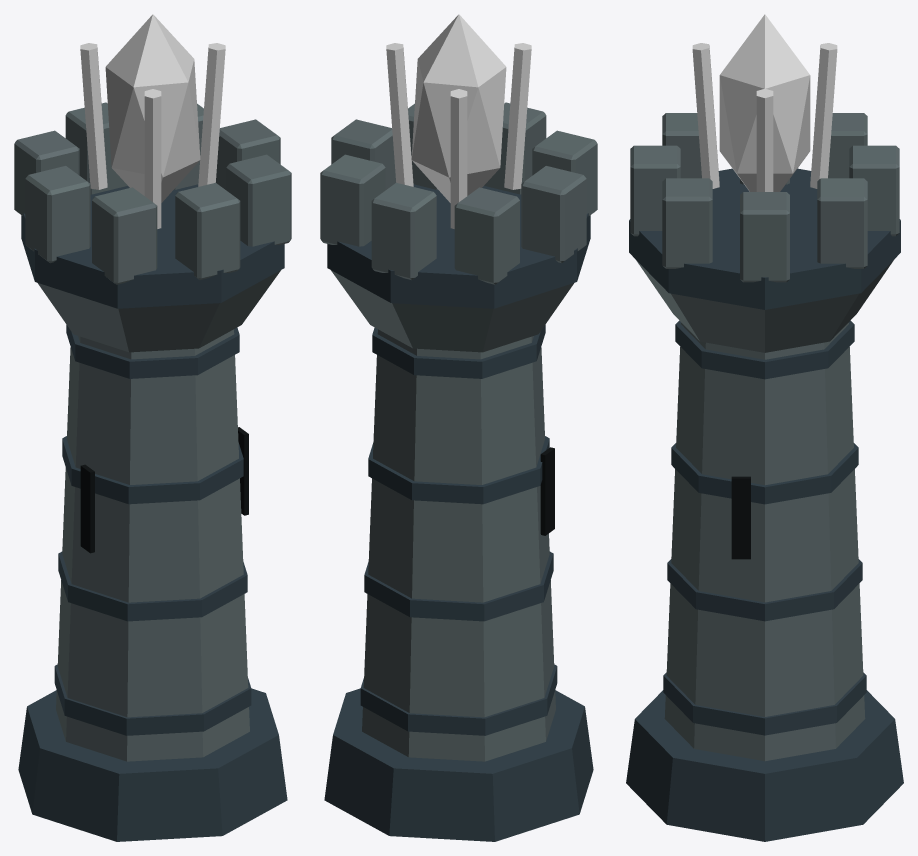
File: MagicTower.fbx
3 views of the same model, side by side, from view 1: azimuth 30°, elevation 25°; view 2: azimuth 150°, elevation 25°; view 3: azimuth 270°, elevation 25° (orthographic).
Parts seen in each view (by area): view 1: MagicTower_Mesh, Crystal_Mesh, Turret.001_Mesh; view 2: MagicTower_Mesh, Crystal_Mesh, Turret.001_Mesh; view 3: MagicTower_Mesh, Crystal_Mesh, Turret.001_Mesh.
Boxes of the visible parts, box(x1,y1,x2,y2) form: MagicTower_Mesh: box(14, 102, 291, 841); Crystal_Mesh: box(105, 14, 200, 202); Turret.001_Mesh: box(80, 43, 225, 228); MagicTower_Mesh: box(320, 102, 597, 841); Crystal_Mesh: box(411, 14, 506, 202); Turret.001_Mesh: box(386, 43, 531, 228); MagicTower_Mesh: box(626, 113, 903, 841); Crystal_Mesh: box(719, 14, 810, 191); Turret.001_Mesh: box(692, 43, 837, 191).
Size of the model in its own units: 0.94 by 2.87 by 0.94.
